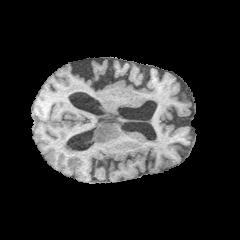glioma: (62, 122, 118, 153)
